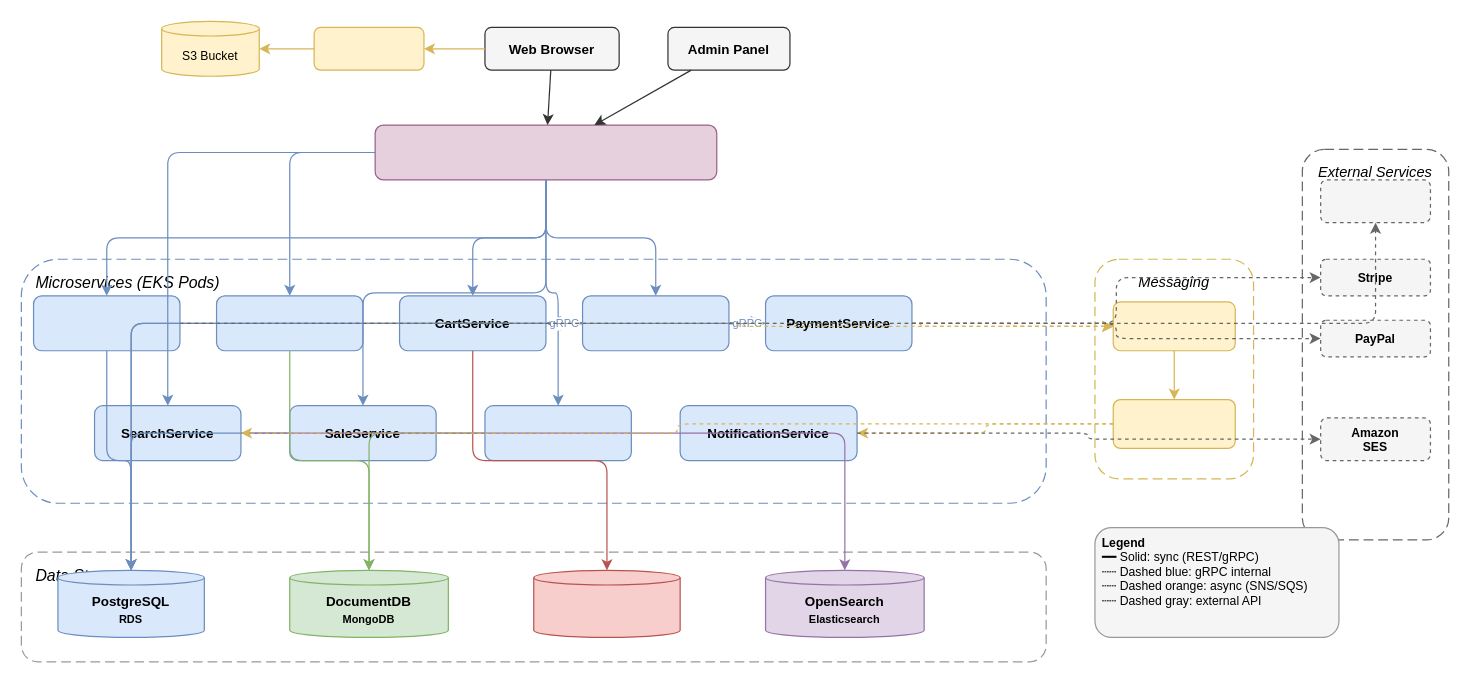
The diagram is 1470 pixels wide and 683 high, and some of its shapes have lost their labels. Here are the shapes that lost their labels. From the top down, the centre of each, then its label:
At pixel 368 48: "CloudFront CDN".
At pixel 545 152: "Nginx Ingress Controller SSL · Rate Limiting · Path Routing".
At pixel 1374 201: "Social OAuth".
At pixel 106 323: "UserService".
At pixel 289 323: "ProductService".
At pixel 655 323: "OrderService".
At pixel 1173 326: "SNS Topics".
At pixel 557 432: "ReviewService".
At pixel 1173 423: "SQS Queues".
At pixel 606 603: "ElastiCache Redis".
